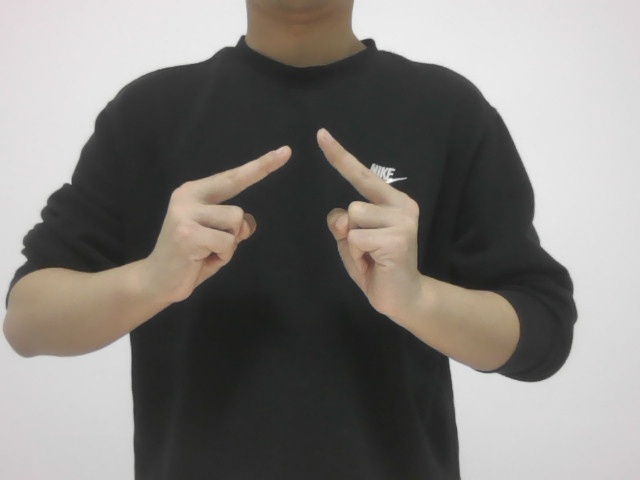know: (161, 123, 429, 327)
